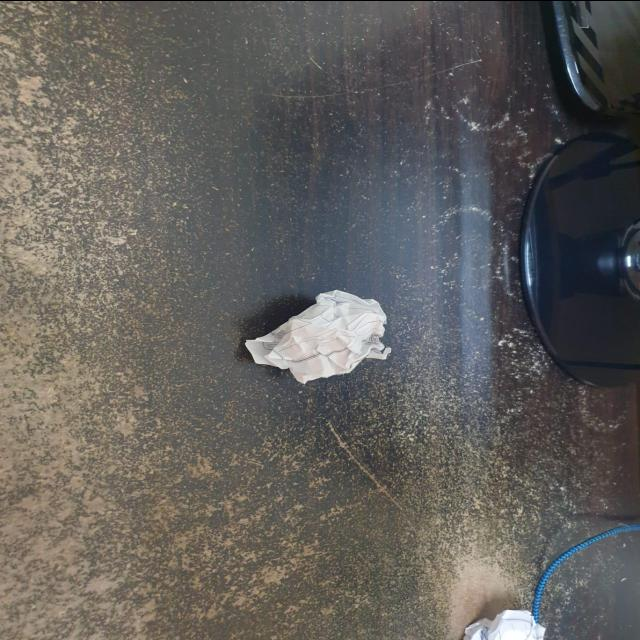kertas: (247, 290, 393, 384)
